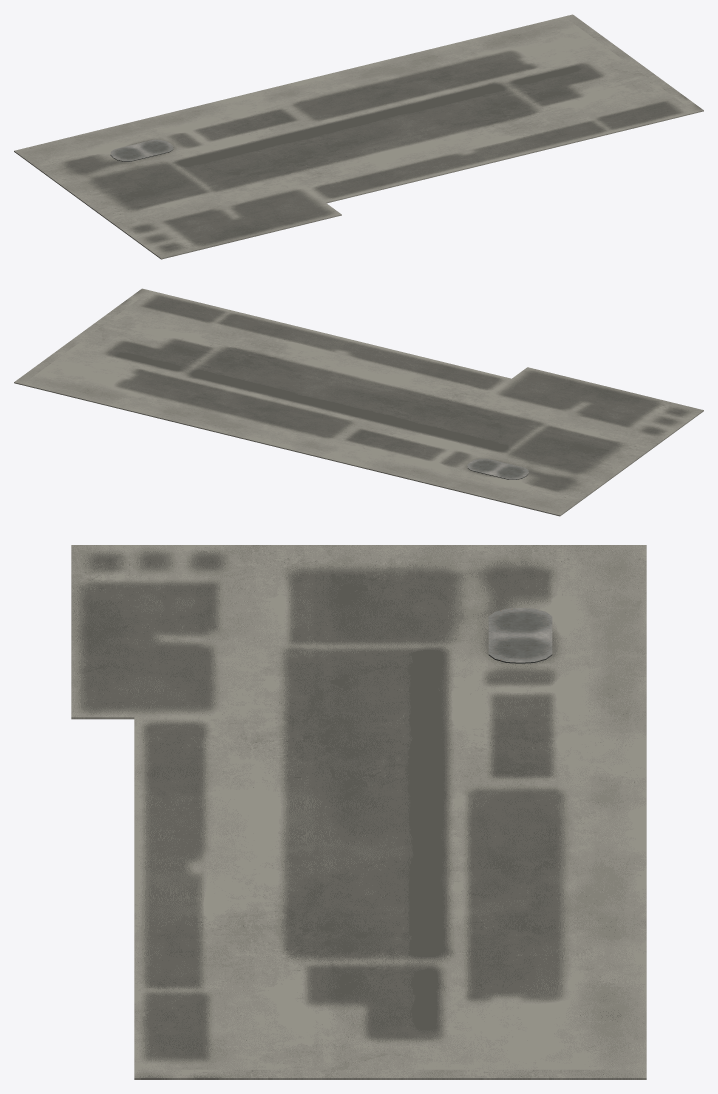
File: ground.obj
3 views of the same model, one above another, from view 1: azimuth 30°, elevation 25°; view 2: azimuth 150°, elevation 25°; view 3: azimuth 270°, elevation 25° (orthographic). The views are drawn at different scales.
Visible parts, largest first — view 1: Box084; view 2: Box084; view 3: Box084.
Boxes of the visible parts, bbox=[...] form: Box084: bbox=[14, 14, 703, 259]; Box084: bbox=[14, 288, 703, 516]; Box084: bbox=[71, 545, 646, 1079].
Bounding box in the file's own units: 851 × 2.22 × 388.
